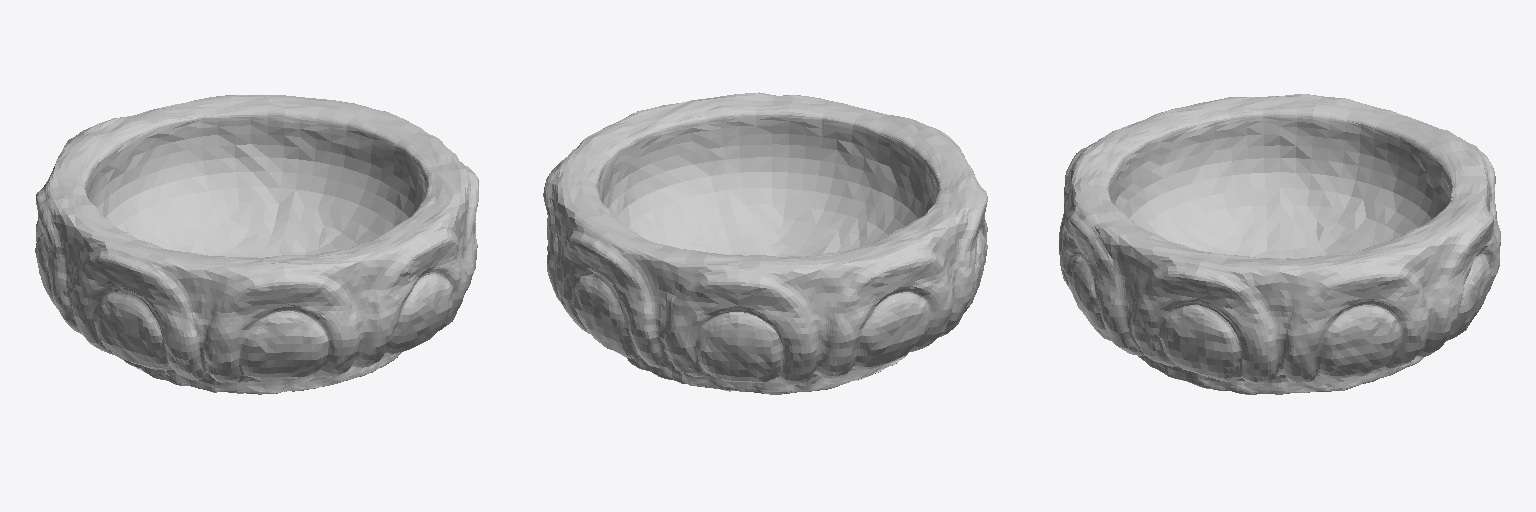
The model's file is Sorting_grp_CHOZUBACHI2.obj.
3 renders of one model, left to right at view 1: azimuth 30°, elevation 25°; view 2: azimuth 150°, elevation 25°; view 3: azimuth 270°, elevation 25°, orthographic.
Visible parts, largest first — view 1: StaticMeshActor_71; view 2: StaticMeshActor_71; view 3: StaticMeshActor_71.
Part boxes in pixels (x1,y1,x2,y2): StaticMeshActor_71: (35, 95, 478, 394); StaticMeshActor_71: (543, 92, 987, 394); StaticMeshActor_71: (1059, 94, 1500, 394).
Size of the model in its own units: 217 by 81.99 by 216.